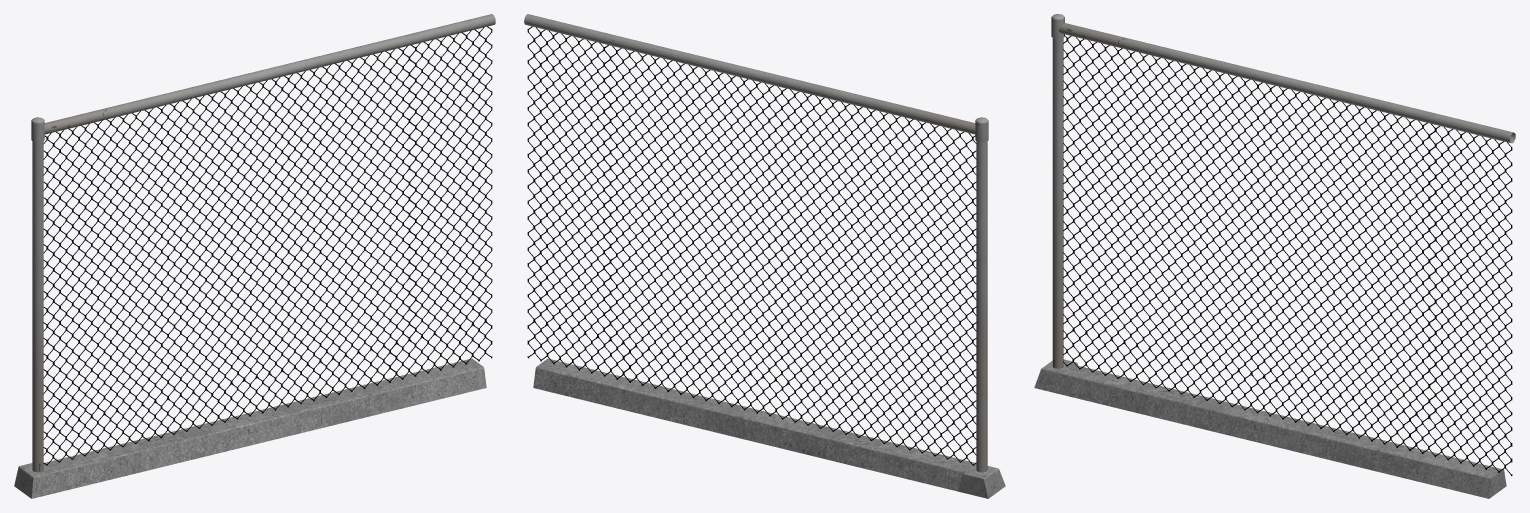
File: chain_curb_corner_ccw.fbx
3 views of the same model, side by side, from view 1: azimuth 30°, elevation 25°; view 2: azimuth 150°, elevation 25°; view 3: azimuth 330°, elevation 25° (orthographic).
Visible parts, largest first — view 1: chain_curb_corner_ccw; view 2: chain_curb_corner_ccw; view 3: chain_curb_corner_ccw.
Boxes of the visible parts, x1=… form: chain_curb_corner_ccw: x1=14, y1=14, x2=495, y2=498; chain_curb_corner_ccw: x1=524, y1=14, x2=1005, y2=498; chain_curb_corner_ccw: x1=1034, y1=14, x2=1515, y2=498.
Size of the model in its own units: 3.1 by 2.33 by 0.2.
Materials: 2 (2 with a texture image).
